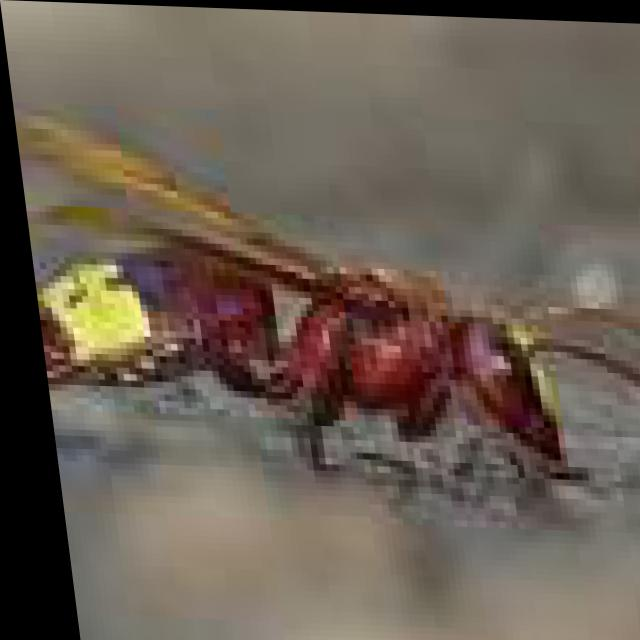Vespa Orientalis: (9, 89, 639, 556)
